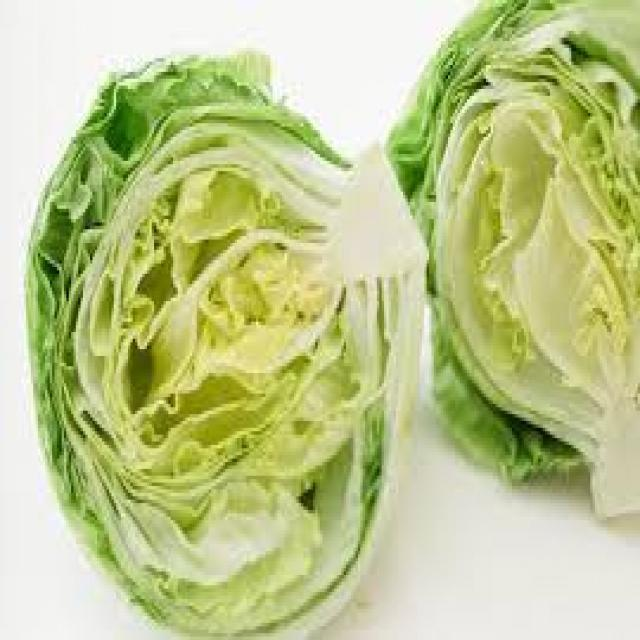Lettuce: (24, 44, 426, 640), (386, 0, 640, 518)
